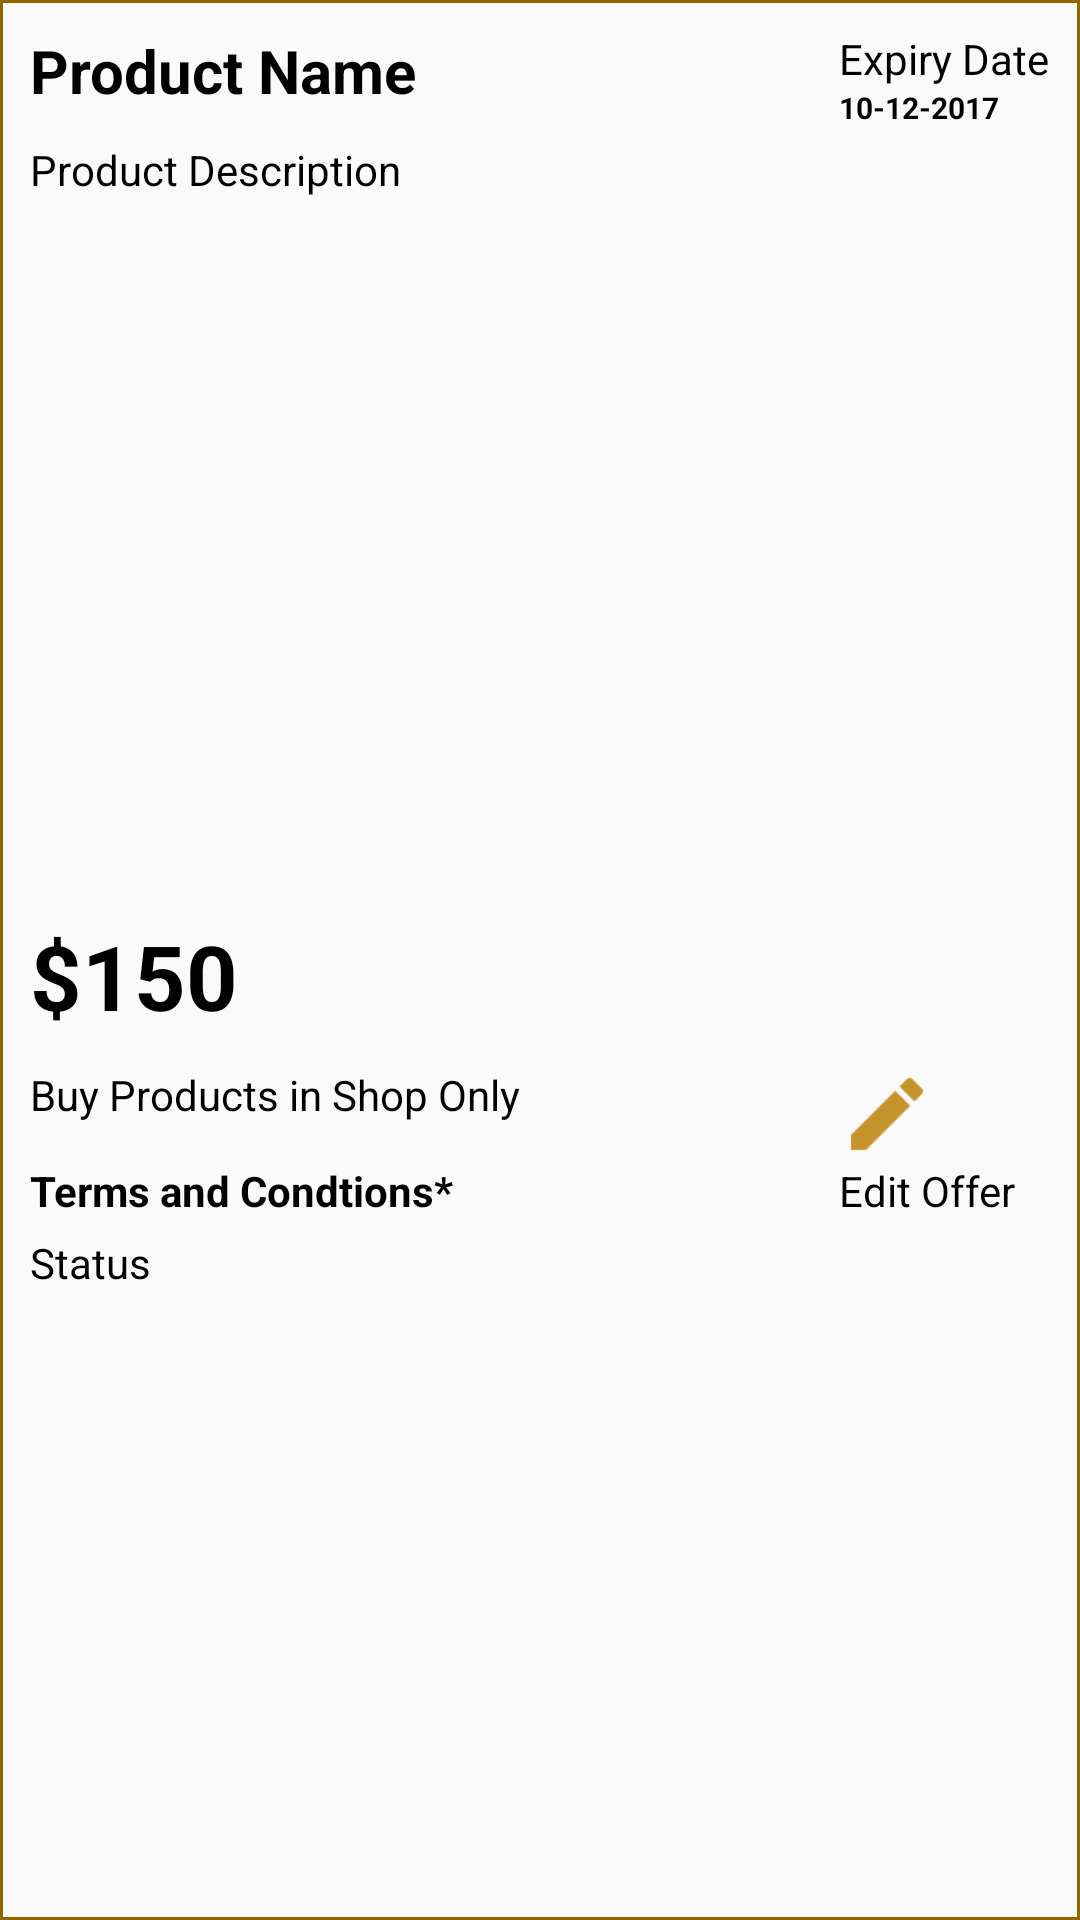

Icon click points for this 1080x1920 phone screenshot, format [x,y]:
create gold: [886,1114]
